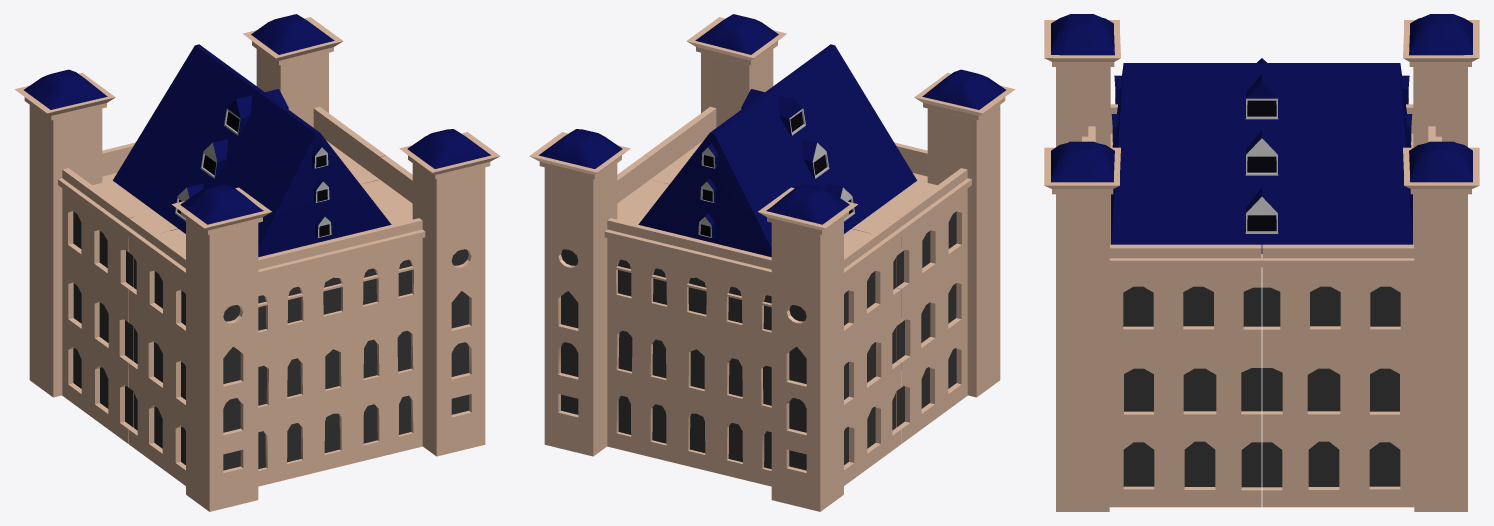
Rendered from rova.fbx.
The picture shows the model from 3 angles, left to right: view 1: azimuth 30°, elevation 25°; view 2: azimuth 150°, elevation 25°; view 3: azimuth 270°, elevation 25°; orthographic projection. The views are drawn at different scales.
Visible parts, largest first — view 1: Plane.002, Plane.001, Cube, Plane.008, Plane.011, Plane.010, Plane.009, Plane.007, Cube.001, Cube.002; view 2: Plane.002, Plane.001, Cube, Plane.008, Plane.011, Plane.010, Plane.009, Plane.007, Cube.001, Cube.002; view 3: Plane.002, Cube, Plane.001, Plane.010, Plane.008, Plane.007, Cube.002, Cube.001.
Part boxes in pixels (<box>): Plane.002: <box>62,106,425,486</box>; Plane.001: <box>14,17,500,511</box>; Cube: <box>113,44,391,257</box>; Plane.008: <box>24,14,491,224</box>; Plane.011: <box>258,259,411,468</box>; Plane.010: <box>73,211,185,464</box>; Plane.009: <box>223,249,468,470</box>; Plane.007: <box>58,159,379,278</box>; Cube.001: <box>175,108,331,237</box>; Cube.002: <box>177,111,329,236</box>; Plane.002: <box>604,106,967,486</box>; Plane.001: <box>529,17,1015,511</box>; Cube: <box>638,44,916,257</box>; Plane.008: <box>538,14,1005,224</box>; Plane.011: <box>618,259,771,468</box>; Plane.010: <box>844,211,956,464</box>; Plane.009: <box>561,249,806,470</box>; Plane.007: <box>650,159,971,278</box>; Cube.001: <box>698,108,854,237</box>; Cube.002: <box>700,111,852,236</box>; Plane.002: <box>1082,104,1441,507</box>; Cube: <box>1111,58,1412,253</box>; Plane.001: <box>1044,20,1479,511</box>; Plane.010: <box>1123,286,1400,487</box>; Plane.008: <box>1051,14,1472,182</box>; Plane.007: <box>1109,258,1414,267</box>; Cube.002: <box>1247,100,1276,231</box>; Cube.001: <box>1112,98,1411,233</box>.
Size of the model in its own units: 168 by 176 by 187.
